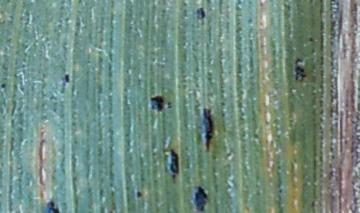tarspot: (199, 106, 215, 153), (166, 146, 180, 184), (193, 184, 207, 213), (293, 56, 307, 83), (148, 94, 165, 113), (43, 200, 61, 213), (195, 5, 207, 21), (134, 189, 143, 200), (63, 72, 71, 84), (307, 35, 315, 44), (1, 82, 8, 90)
